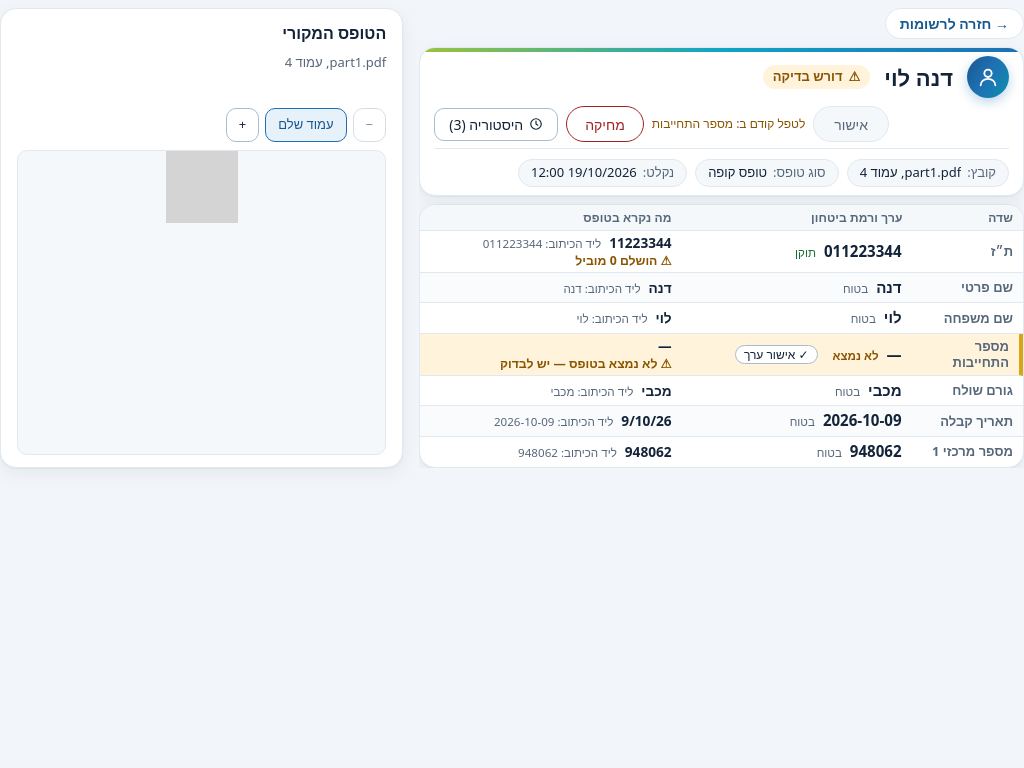
RecordPage › the history button beside approve opens a window that lists every action
Expected: the element "היסטוריה (3)" is shown, [434,106,889,142]
Click the button "היסטוריה (3)": [496, 124] box [434,108,558,140]
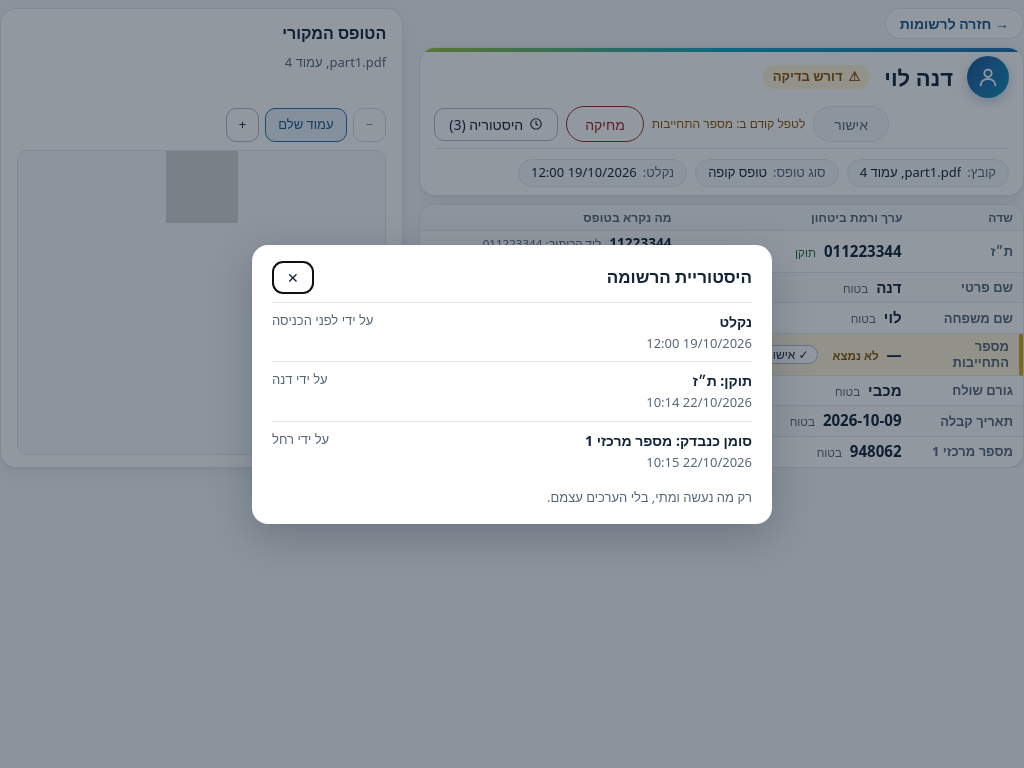
Expected: the list items read "נקלטעל ידי לפני הכניסה19/10/2026 12:00", "תוקן: ת״זעל ידי דנה22/10/2026 10:14", "סומן כנבדק: מספר מרכזי 1על ידי רחל22/10/2026 10:15", in this order, [272,302,752,361]; [272,361,752,420]; [272,420,752,480]
Press Escape
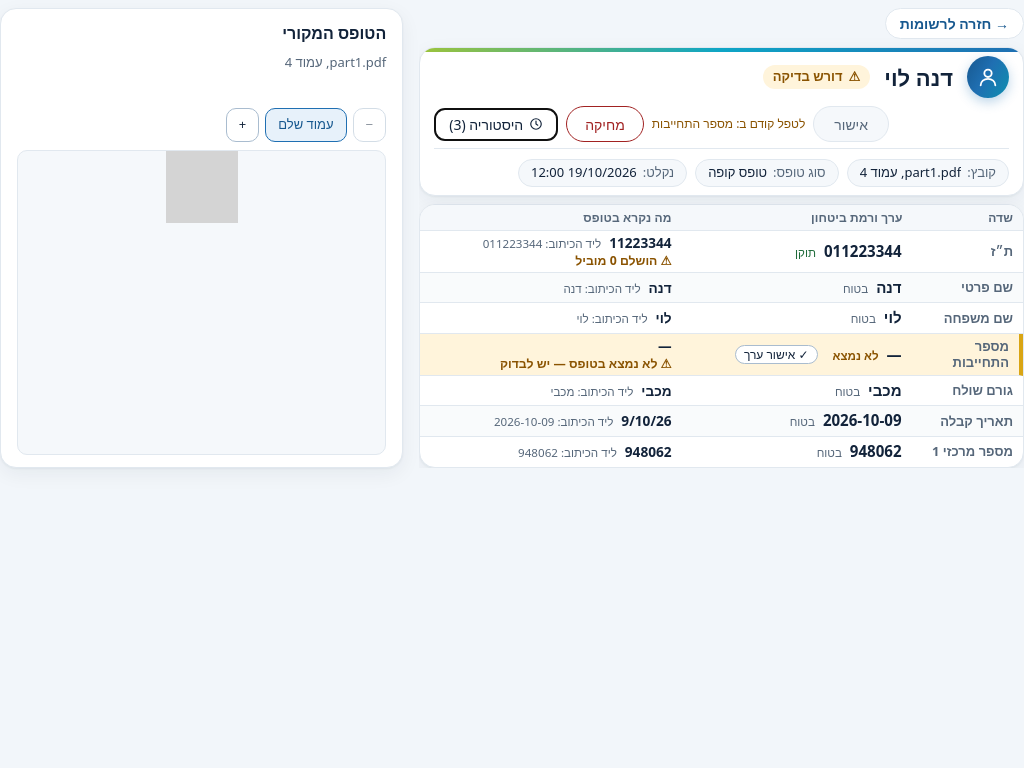
Expected: the dialog is gone
